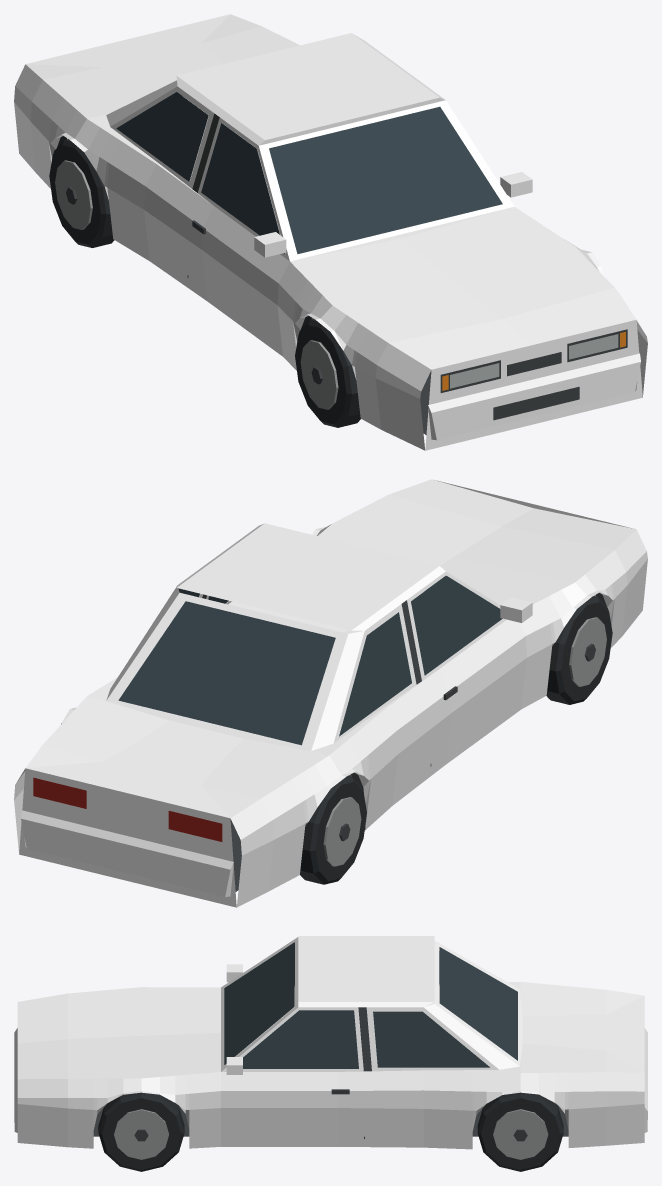
Rendered from hayase_hokuto.glb.
3 views of the same model, one above another, from view 1: azimuth 30°, elevation 25°; view 2: azimuth 150°, elevation 25°; view 3: azimuth 270°, elevation 25° (orthographic). The views are drawn at different scales.
Parts seen in each view (by area): view 1: hayase_hokuto; view 2: hayase_hokuto; view 3: hayase_hokuto.
Part boxes in pixels (x1,y1,x2,y2): hayase_hokuto: [14, 14, 647, 450]; hayase_hokuto: [14, 479, 647, 907]; hayase_hokuto: [14, 936, 647, 1171].
Size of the model in its own units: 1.8 by 1.24 by 4.63.
Materials: 8 (1 with a texture image).
